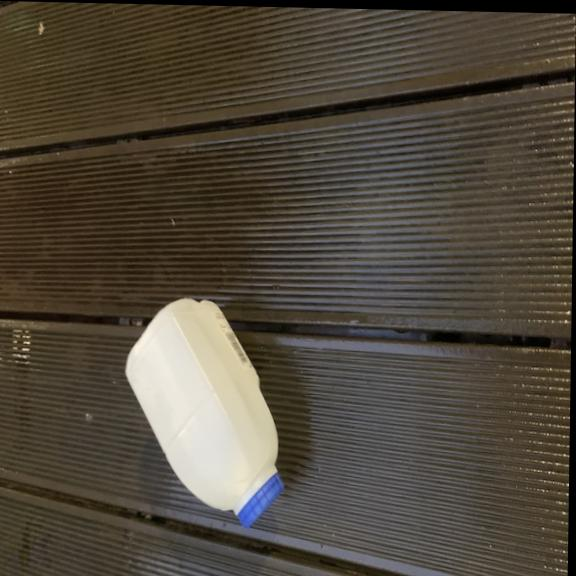Plastik: (118, 291, 297, 538)
